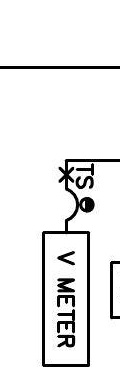v_m_digital: (41, 230, 91, 368)
